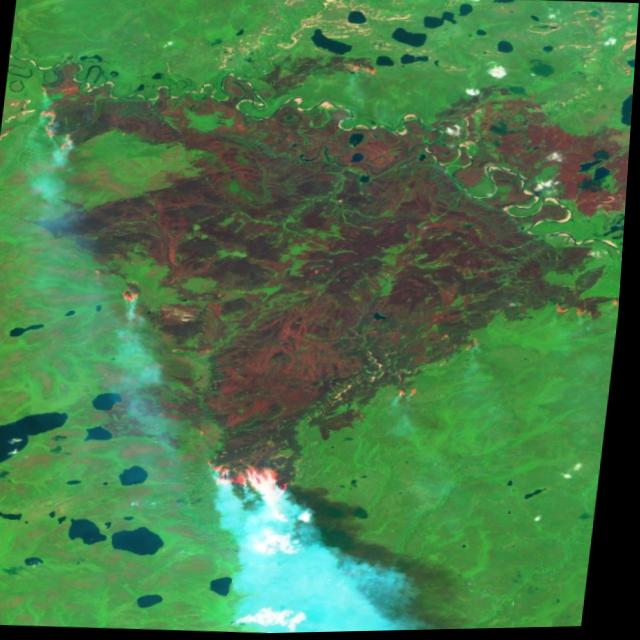fire: (204, 452, 309, 510), (26, 73, 93, 159), (544, 292, 624, 325), (384, 381, 433, 405), (120, 283, 153, 309)
